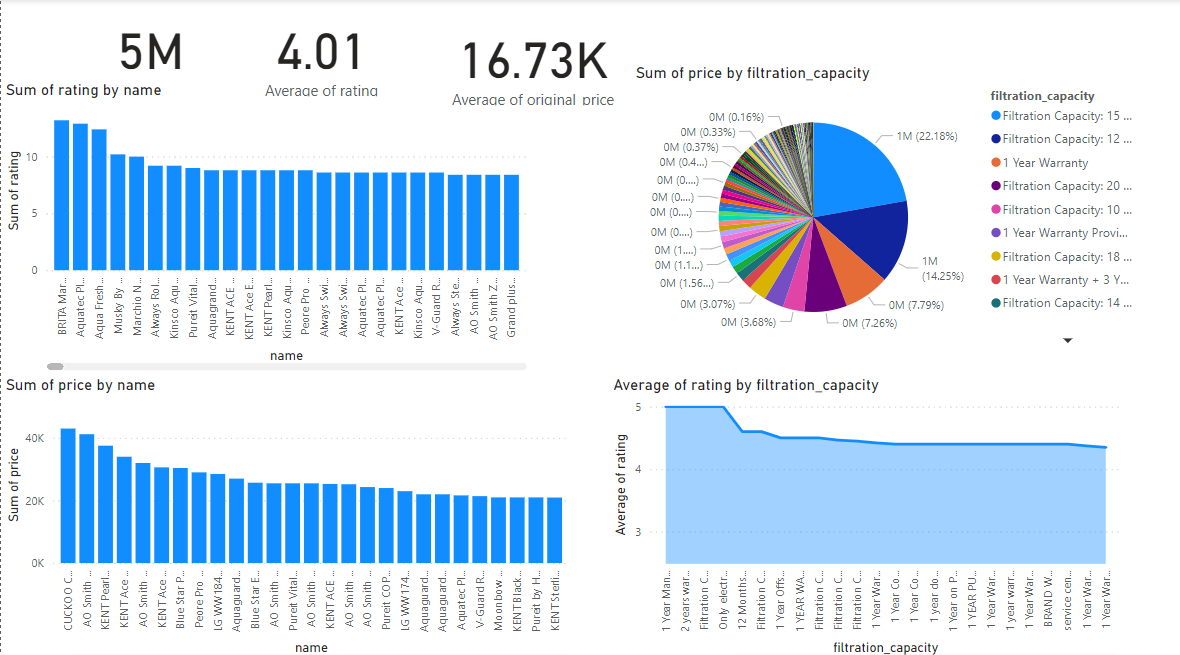

This screenshot's page, from the dashboard's own definition file:
{"tool":"powerbi","page":{"name":"dashboard","canvas":[1280,720],"ordinal":5},"visuals":[{"type":"card","fields":{"Values":["Sum(SQL_Querry_Downloaded.price)"]},"box":[0,0,320,120],"z":0},{"type":"columnChart","fields":{"Category":["SQL_Querry_Downloaded.name"],"Y":["Sum(SQL_Querry_Downloaded.rating)"]},"box":[0,88,572,318],"z":1},{"type":"pieChart","fields":{"Category":["SQL_Querry_Downloaded.filtration_capacity"],"Y":["Sum(SQL_Querry_Downloaded.price)"]},"box":[680,70,558,312],"z":2},{"type":"clusteredColumnChart","fields":{"Category":["SQL_Querry_Downloaded.name"],"Y":["Sum(SQL_Querry_Downloaded.price)"]},"box":[0,406.4,618.5,314.1],"z":3},{"type":"actionButton","box":[0,0,100,40],"z":5},{"type":"areaChart","fields":{"Category":["SQL_Querry_Downloaded.filtration_capacity"],"Y":["Avg(SQL_Querry_Downloaded.rating)"]},"box":[656,406,558,314],"z":6},{"type":"card","fields":{"Values":["Avg(SQL_Querry_Downloaded.rating)"]},"box":[200,20,294,100],"z":7},{"type":"card","fields":{"Values":["Avg(SQL_Querry_Downloaded.original_price)"]},"box":[468,20,212,100],"z":8}]}

Visuals, with their boxes in screenshot pixels (x1, y1, x2, y2), scaled from the page's 1280x720 canvas onto the 1180x655 screenshot:
card - Sum(SQL_Querry_Downloaded.price): l=0, t=0, r=295, b=109
columnChart - SQL_Querry_Downloaded.name x Sum(SQL_Querry_Downloaded.rating): l=0, t=80, r=527, b=369
pieChart - SQL_Querry_Downloaded.filtration_capacity x Sum(SQL_Querry_Downloaded.price): l=627, t=64, r=1141, b=348
clusteredColumnChart - SQL_Querry_Downloaded.name x Sum(SQL_Querry_Downloaded.price): l=0, t=370, r=570, b=654
actionButton: l=0, t=0, r=92, b=36
areaChart - SQL_Querry_Downloaded.filtration_capacity x Avg(SQL_Querry_Downloaded.rating): l=605, t=369, r=1119, b=654
card - Avg(SQL_Querry_Downloaded.rating): l=184, t=18, r=455, b=109
card - Avg(SQL_Querry_Downloaded.original_price): l=431, t=18, r=627, b=109
